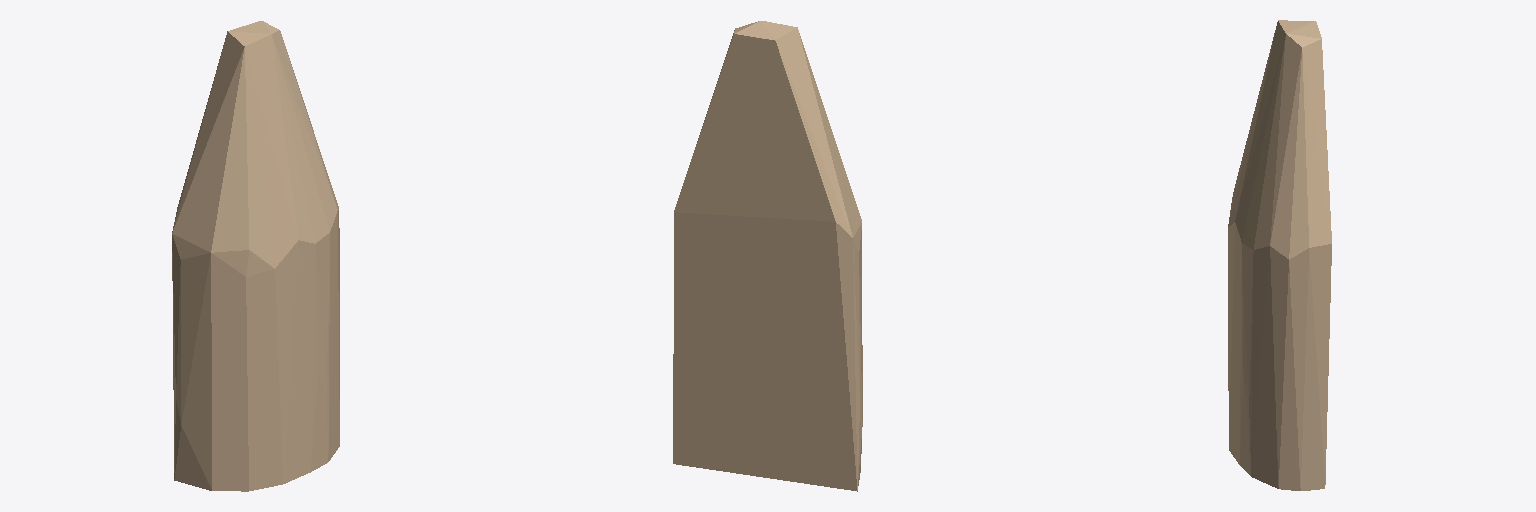
URDF robot description (obj_03):
<?xml version="1.0"?>
<robot name="obj_03">
  <!-- liquor bottle: glass, 1343 g. Written by Darius 0.2.0. Link frame: +z up, origin at the capture-time bounding-box center; place it at the pose in world.json -->
  <mujoco>
    <compiler meshdir="../meshes/" discardvisual="true" balanceinertia="true" fusestatic="false" />
  </mujoco>
  <link name="obj_03">
    <inertial>
      <origin xyz="0.00445 -0.00237 -0.01042" rpy="0 0 0" />
      <mass value="1.3428" />
      <inertia ixx="0.00666194" ixy="-0.000150735" ixz="-4.18611e-05" iyy="0.00744976" iyz="-0.000488046" izz="0.00133399" />
    </inertial>
    <visual>
      <geometry>
        <mesh filename="../meshes/obj_03_visual.obj" />
      </geometry>
      <material name="obj_03_color">
        <color rgba="0.851 0.753 0.635 1" />
      </material>
    </visual>
    <collision name="obj_03_part0">
      <geometry>
        <mesh filename="../meshes/obj_03_part0.obj" />
      </geometry>
    </collision>
    <collision name="obj_03_part1">
      <geometry>
        <mesh filename="../meshes/obj_03_part1.obj" />
      </geometry>
    </collision>
    <collision name="obj_03_part2">
      <geometry>
        <mesh filename="../meshes/obj_03_part2.obj" />
      </geometry>
    </collision>
    <collision name="obj_03_part3">
      <geometry>
        <mesh filename="../meshes/obj_03_part3.obj" />
      </geometry>
    </collision>
    <collision name="obj_03_part4">
      <geometry>
        <mesh filename="../meshes/obj_03_part4.obj" />
      </geometry>
    </collision>
    <collision name="obj_03_part5">
      <geometry>
        <mesh filename="../meshes/obj_03_part5.obj" />
      </geometry>
    </collision>
    <collision name="obj_03_part6">
      <geometry>
        <mesh filename="../meshes/obj_03_part6.obj" />
      </geometry>
    </collision>
    <collision name="obj_03_part7">
      <geometry>
        <mesh filename="../meshes/obj_03_part7.obj" />
      </geometry>
    </collision>
    <contact>
      <lateral_friction value="0.35" />
      <restitution value="0.15" />
    </contact>
  </link>
</robot>

--- Facts derived from the render (not from the file) ---
The picture shows the robot from 3 angles, left to right: view 1: azimuth 30°, elevation 25°; view 2: azimuth 150°, elevation 25°; view 3: azimuth 270°, elevation 25°; orthographic projection.
Robot: obj_03 — 1 links, 0 joints (none); root link obj_03; default pose: all joints at 0.
Links seen in each view (by area): view 1: obj_03; view 2: obj_03; view 3: obj_03.
Boxes of the visible links, <box> form: obj_03: <box>172,21,339,491</box>; obj_03: <box>673,21,862,491</box>; obj_03: <box>1228,20,1331,490</box>.
Size in the robot's own frame: 0.0963 by 0.053 by 0.2379 metres.
Meshes: 1 distinct files referenced, 1 mesh visuals loaded (1 OBJ).
